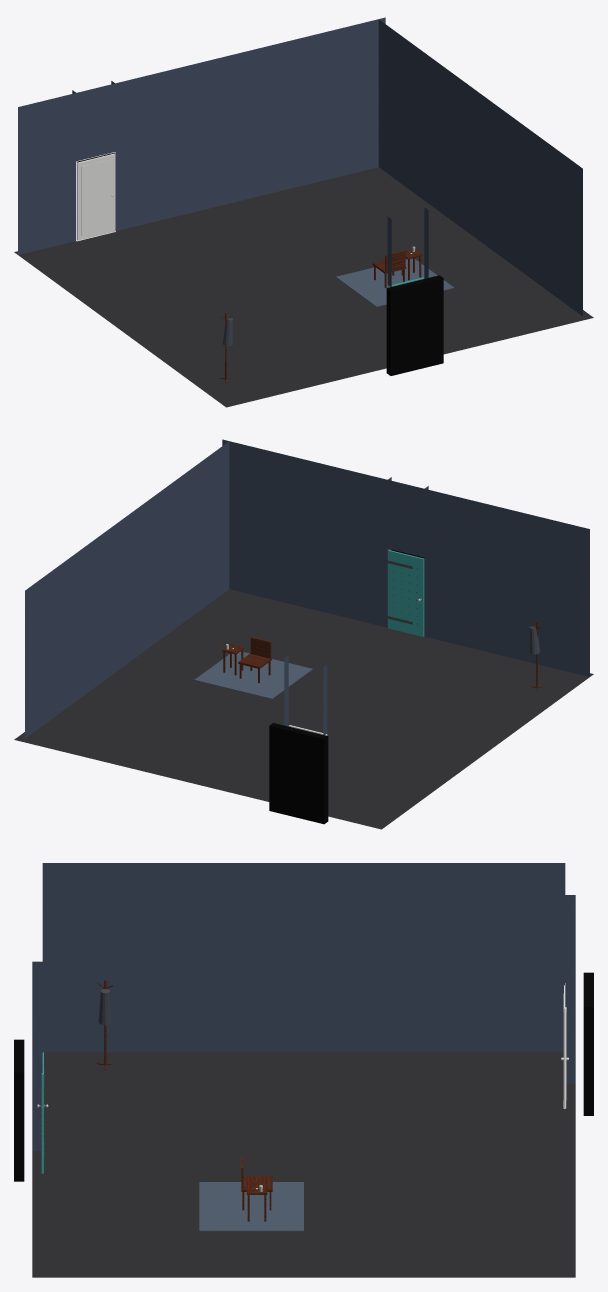
File: rdwe_void_room.glb
3 renders of one model, top to bottom at view 1: azimuth 30°, elevation 25°; view 2: azimuth 150°, elevation 25°; view 3: azimuth 270°, elevation 25°, orthographic. The views are drawn at different scales.
Parts seen in each view (by area): view 1: Void_Felt, Void_Floor, Void_Black, DoorLeaf_lit, Rug_Grey, Chair_Wood; view 2: Void_Felt, Void_Floor, Void_Black, DoorLeaf_teal, Rug_Grey, Chair_Wood; view 3: Void_Floor, Void_Felt, Rug_Grey, Void_Black, Chair_Wood.
Boxes of the visible parts, <box> form: Void_Felt: <box>18,17,582,316</box>; Void_Floor: <box>14,167,593,407</box>; Void_Black: <box>76,153,443,375</box>; DoorLeaf_lit: <box>76,153,114,240</box>; Rug_Grey: <box>336,258,453,306</box>; Chair_Wood: <box>219,249,422,382</box>; Void_Felt: <box>25,439,589,738</box>; Void_Floor: <box>14,589,593,829</box>; Void_Black: <box>269,549,424,824</box>; DoorLeaf_teal: <box>387,550,424,636</box>; Rug_Grey: <box>194,651,312,698</box>; Chair_Wood: <box>222,621,543,691</box>; Void_Floor: <box>32,1052,575,1277</box>; Void_Felt: <box>32,863,575,1151</box>; Rug_Grey: <box>199,1182,303,1231</box>; Void_Black: <box>14,972,593,1181</box>; Chair_Wood: <box>97,980,272,1221</box>.
Bounding box in the file's own units: 10.4 × 4.05 × 11.1.
13 materials, 4 textured.
